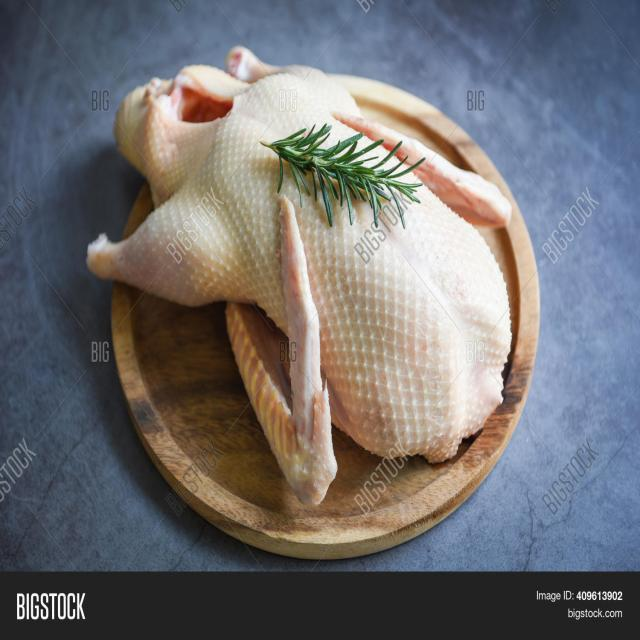duck: (88, 47, 511, 506)
